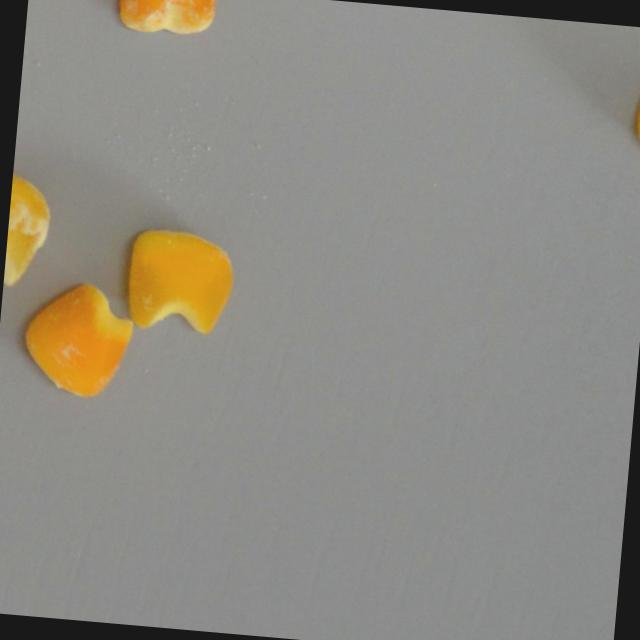pelicula: (19, 278, 137, 401), (2, 169, 54, 289), (115, 0, 216, 37)
